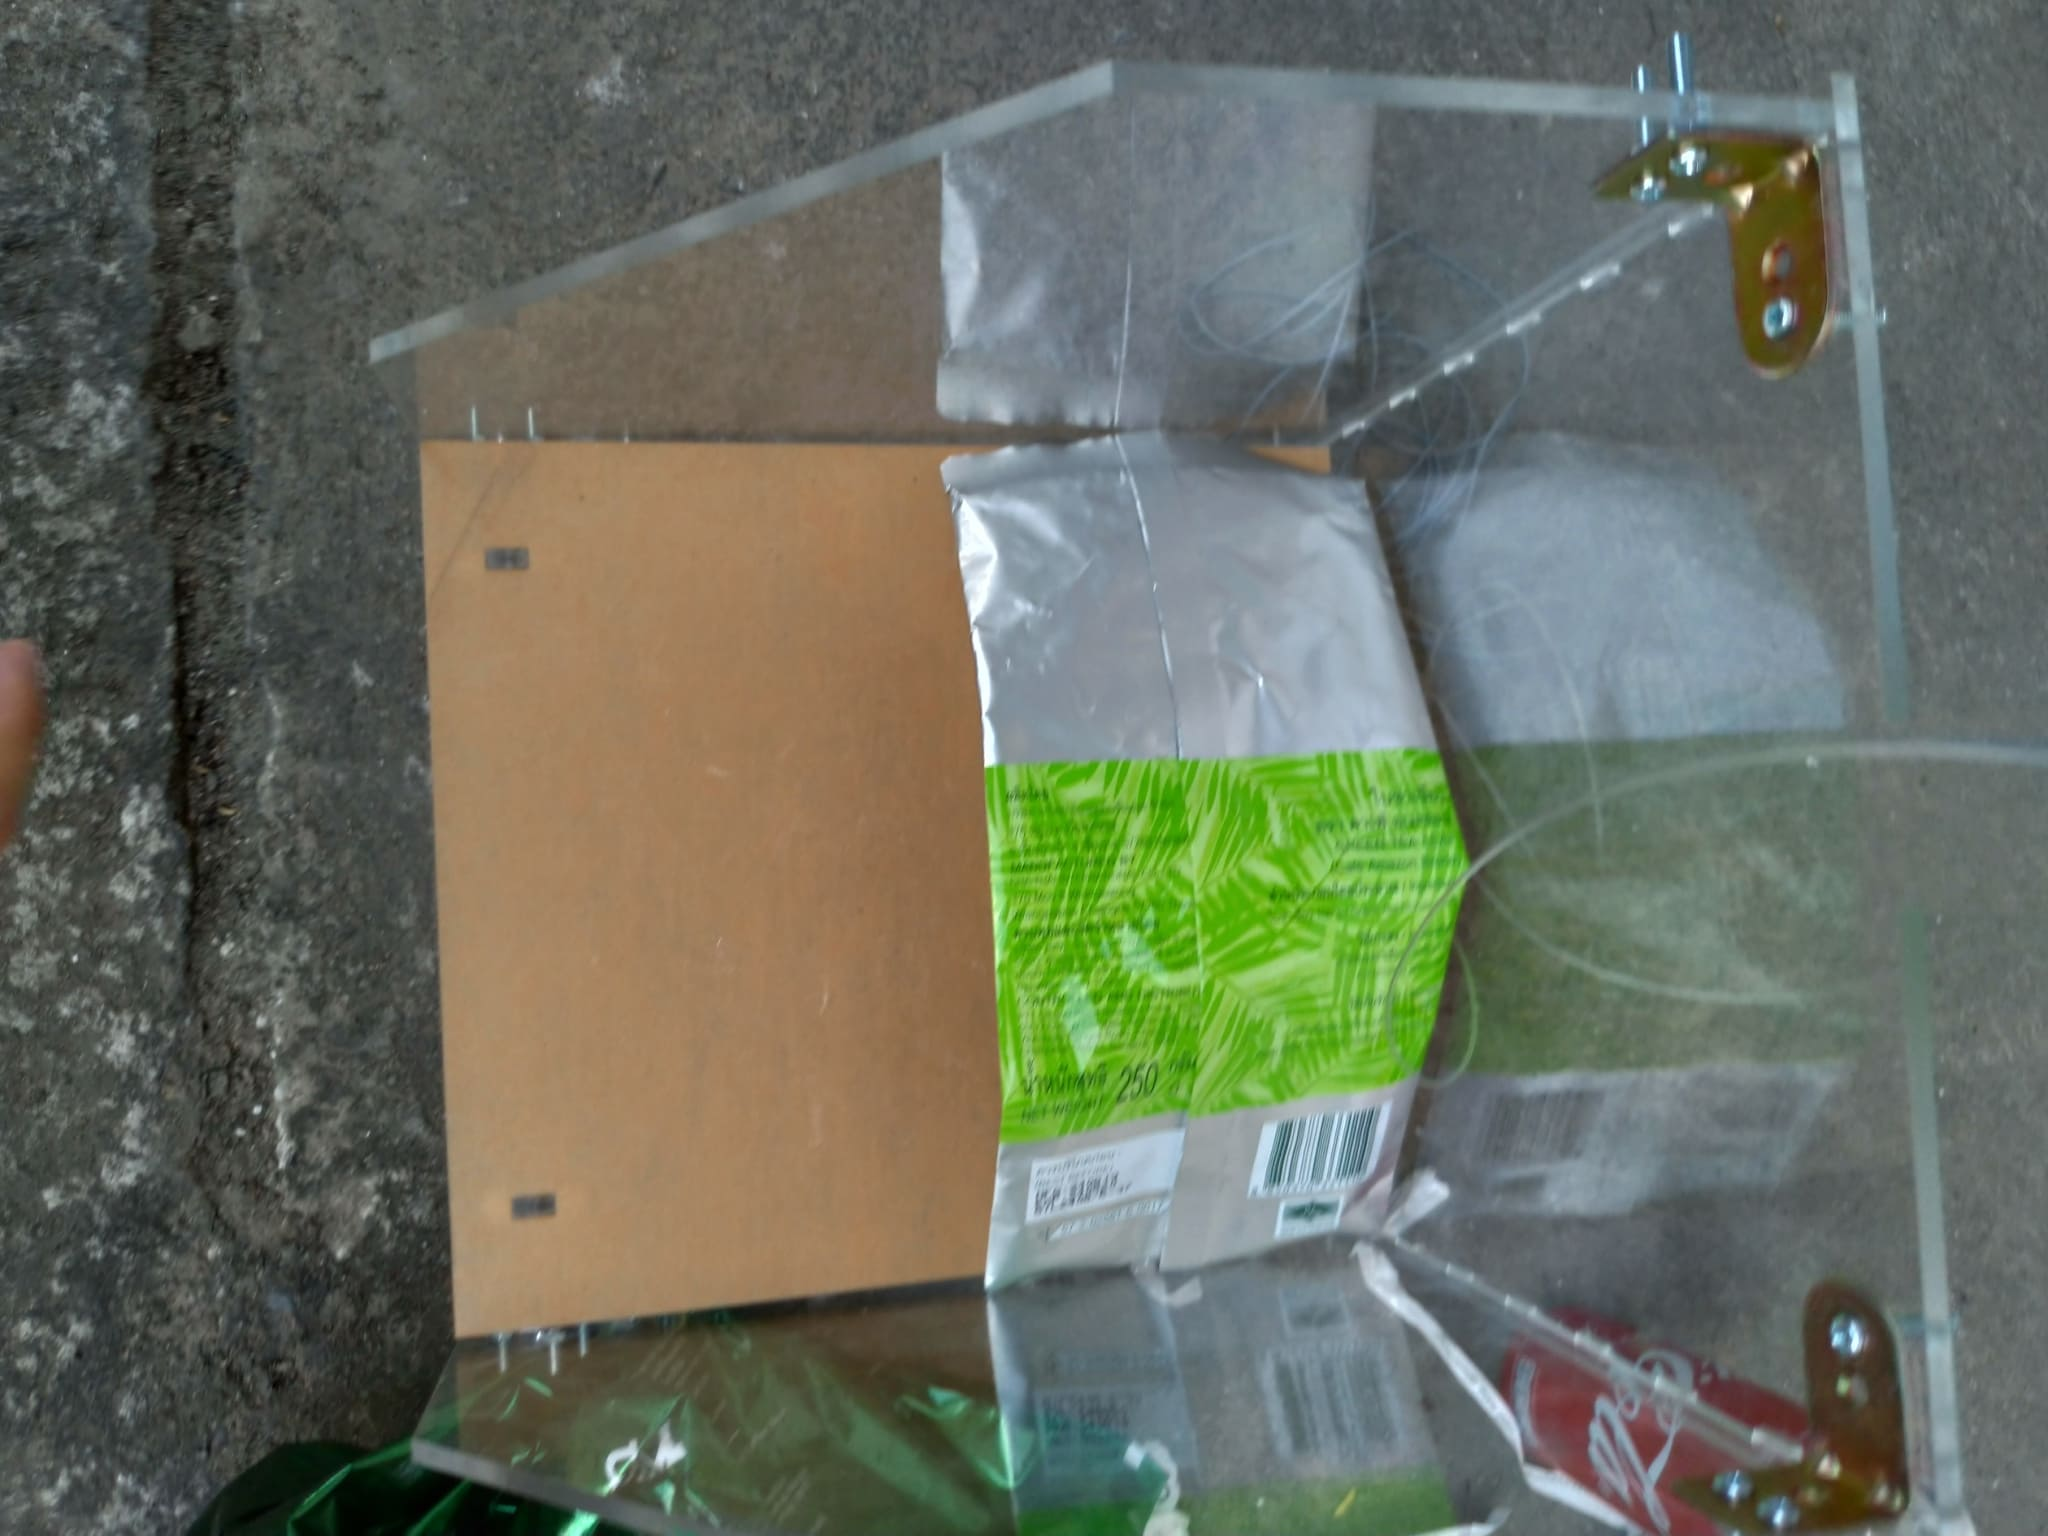AlCan: (1492, 1296, 1832, 1518)
Others: (922, 431, 1464, 1271), (195, 1326, 1247, 1536)
